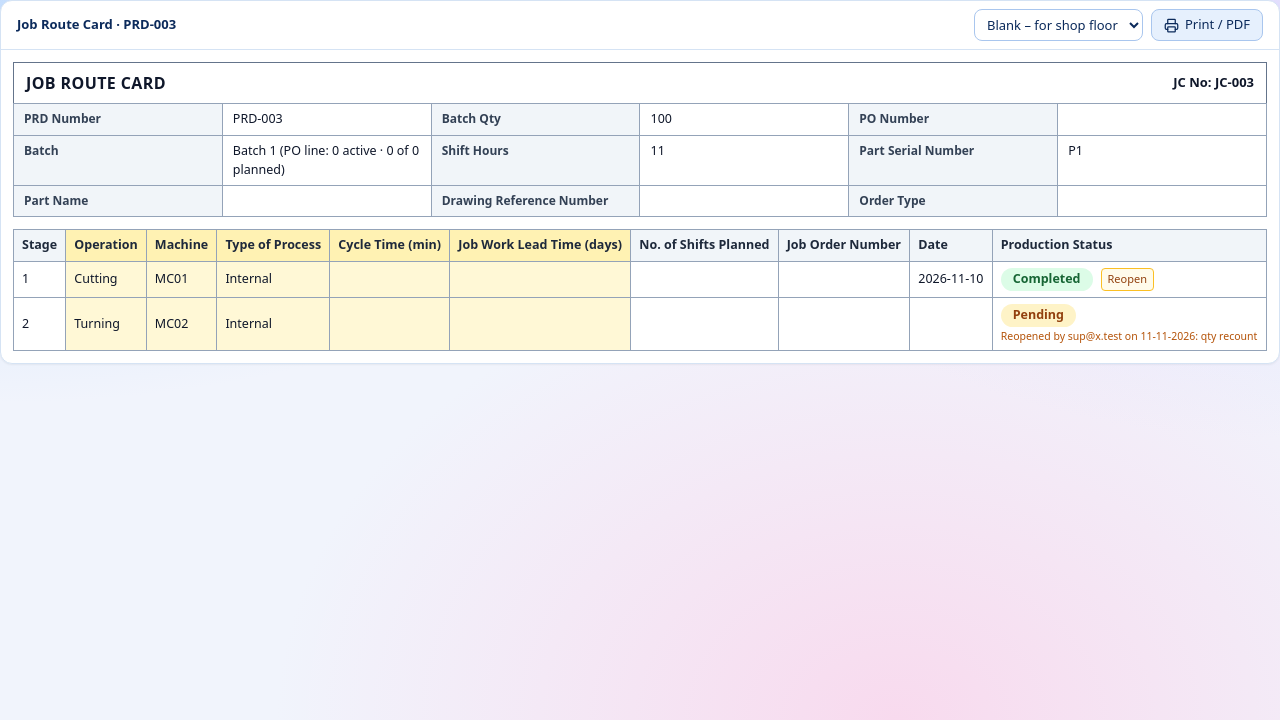
Job Route Card -- Reopen stage (049) › blocked: OK-only notice listing what blocks it, no reason dialog, nothing saved
Check: the text "Cutting" is shown, box [66,262,146,297]
Click the button with aria-label "Reopen stage 1". click: click(1127, 279)
box: [1100,268,1154,290]
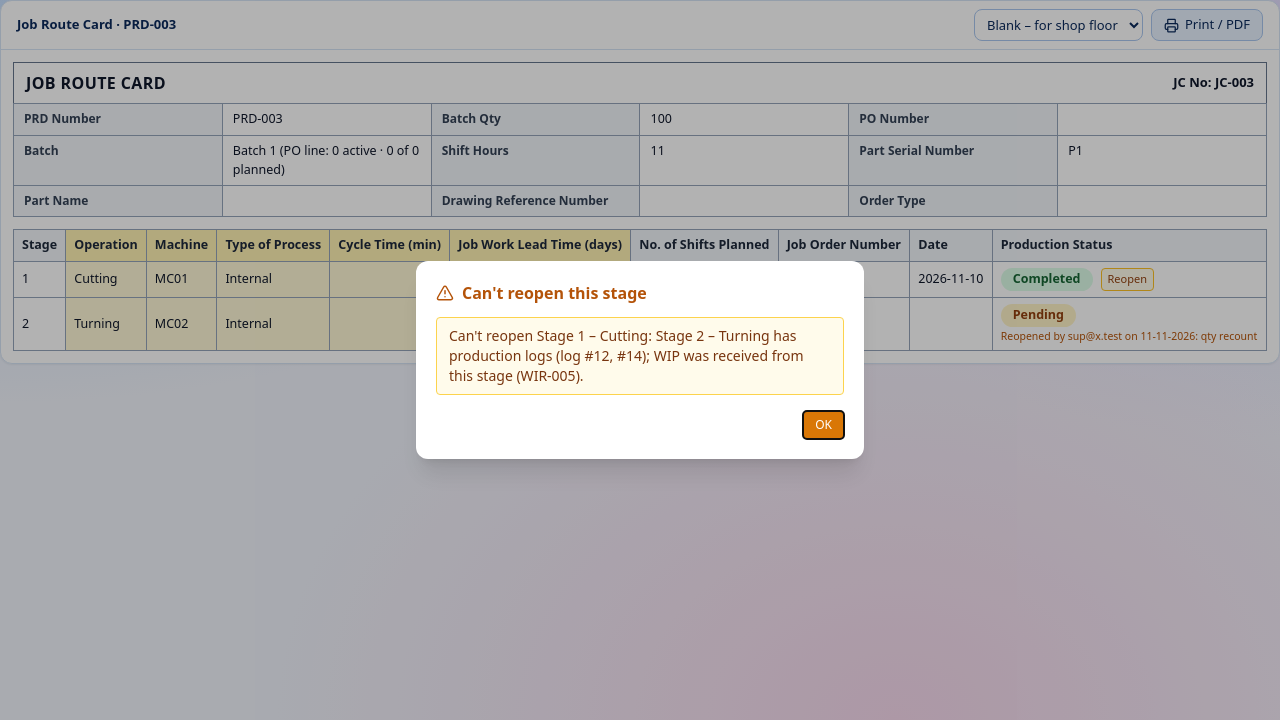
Check: the dialog shows "Can't reopen Stage 1 – Cutting: Stage 2 – Turning has production logs (log #12, #14); WIP was received from this stage (WIR-005).", box [449,326,804,385]
Check: the buttons read "OK", in this order, box [803,411,844,439]
